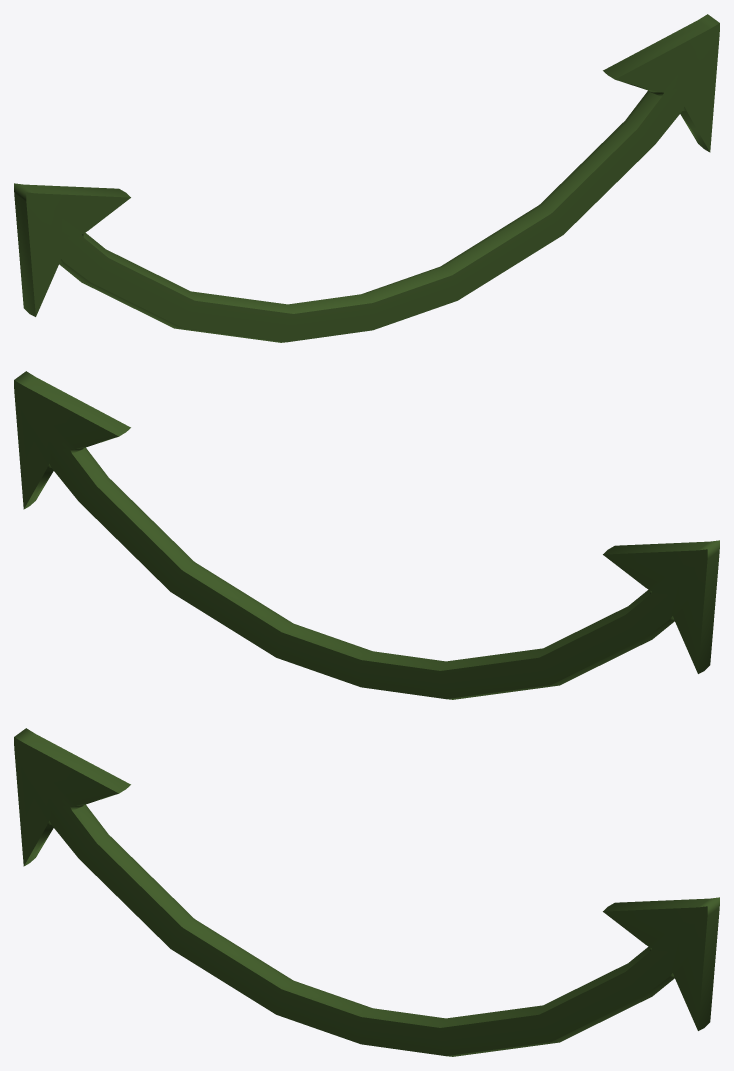
The model's file is Arc_arrow.gltf.
3 views of the same model, one above another, from view 1: azimuth 30°, elevation 25°; view 2: azimuth 150°, elevation 25°; view 3: azimuth 330°, elevation 25° (orthographic).
Parts seen in each view (by area): view 1: Angle_Arc_01_Geo; view 2: Angle_Arc_01_Geo; view 3: Angle_Arc_01_Geo.
Part boxes in pixels (<box>): Angle_Arc_01_Geo: <box>14,14,719,342</box>; Angle_Arc_01_Geo: <box>14,371,719,699</box>; Angle_Arc_01_Geo: <box>14,728,719,1056</box>.
Bounding box in the file's own units: 4.89 × 1.53 × 0.1509.
